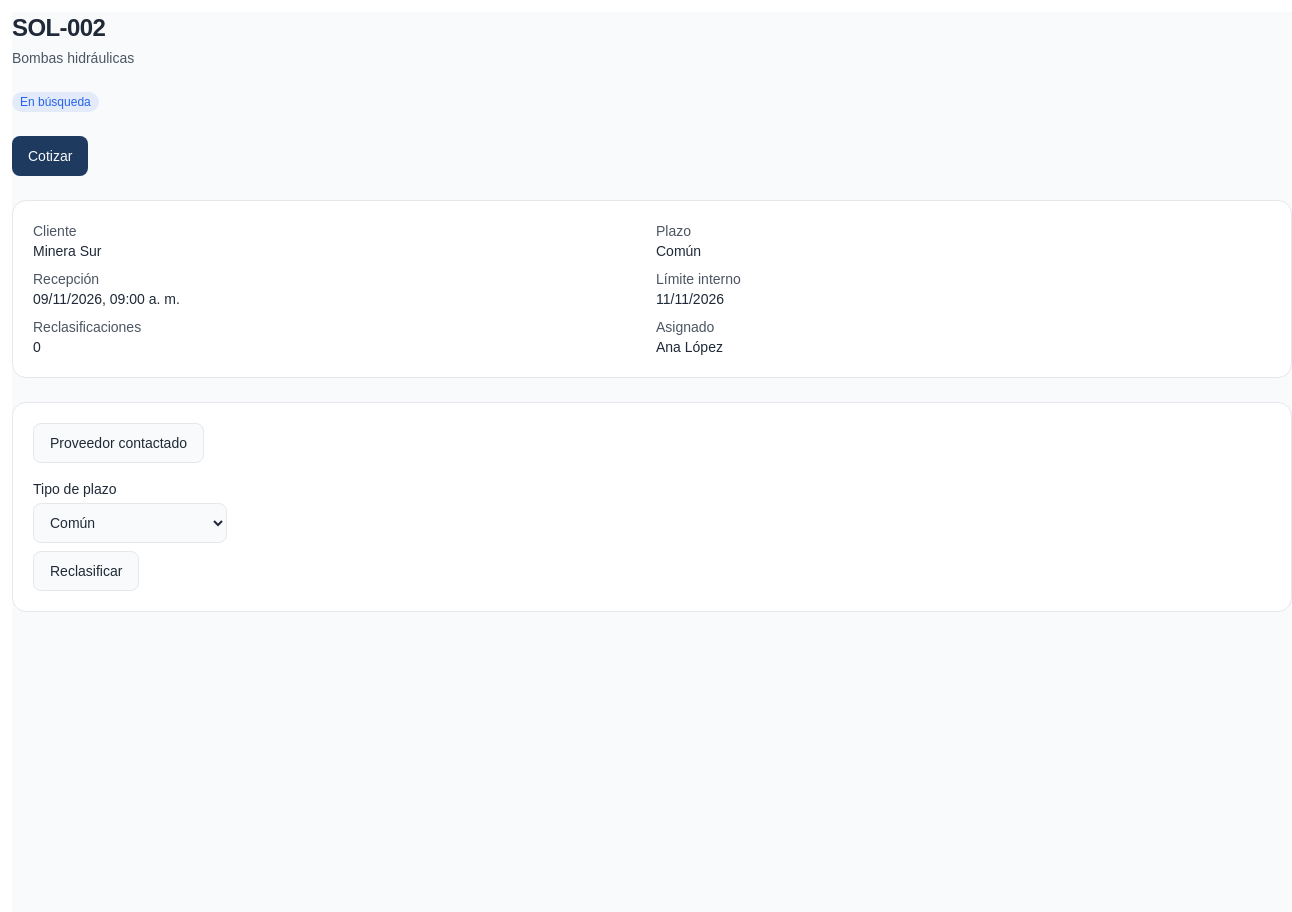
Test case: SolicitudInternaPage › la fecha estimada pasada no se envía
Click the button "Proveedor contactado".
click(118, 443)  # box x1=33 y1=423 x2=204 y2=463
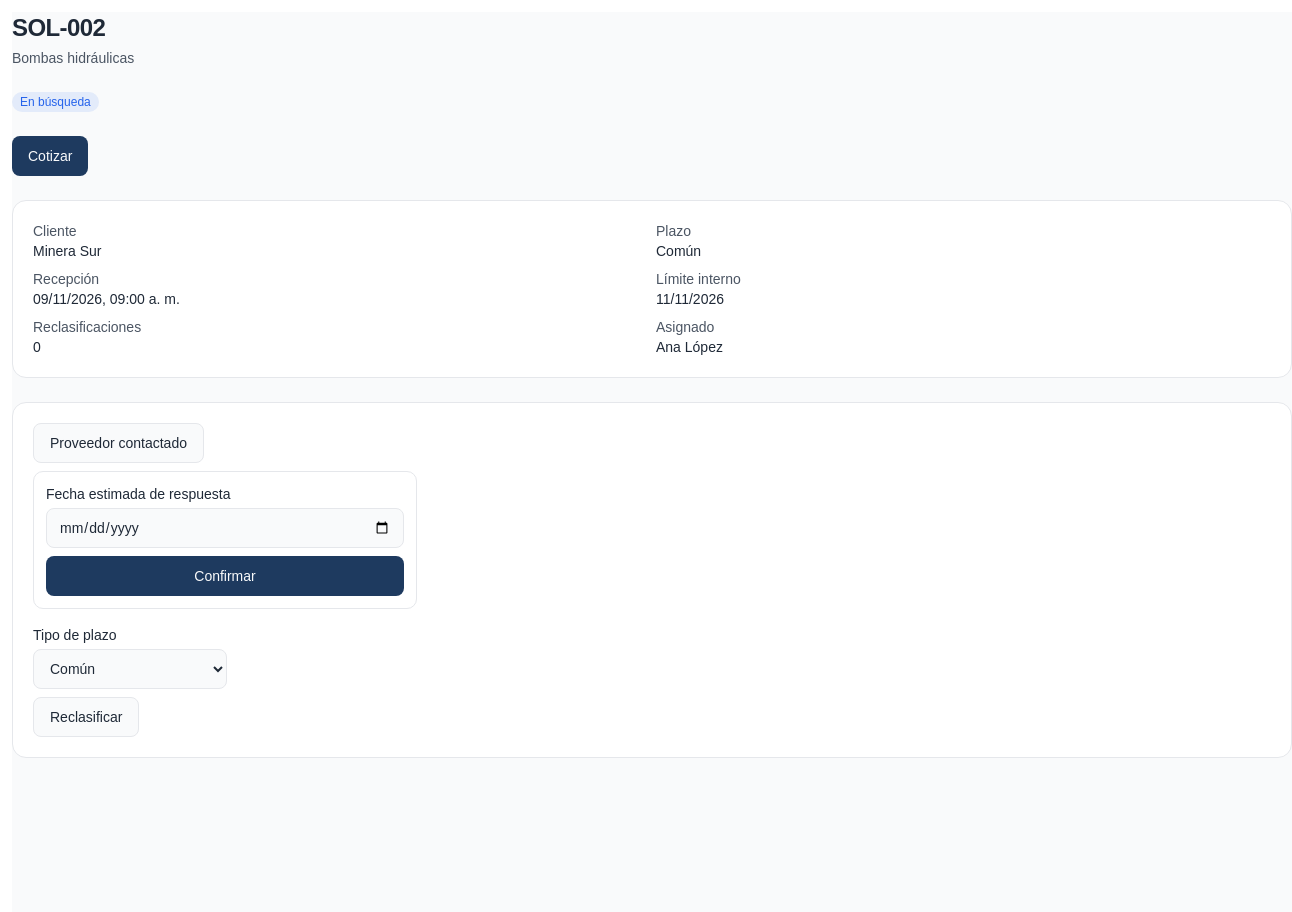
Type "2000-01-01" into the date field labelled "Fecha estimada de respuesta".
click(225, 528); type("2000-01-01")  # box x1=46 y1=508 x2=404 y2=548
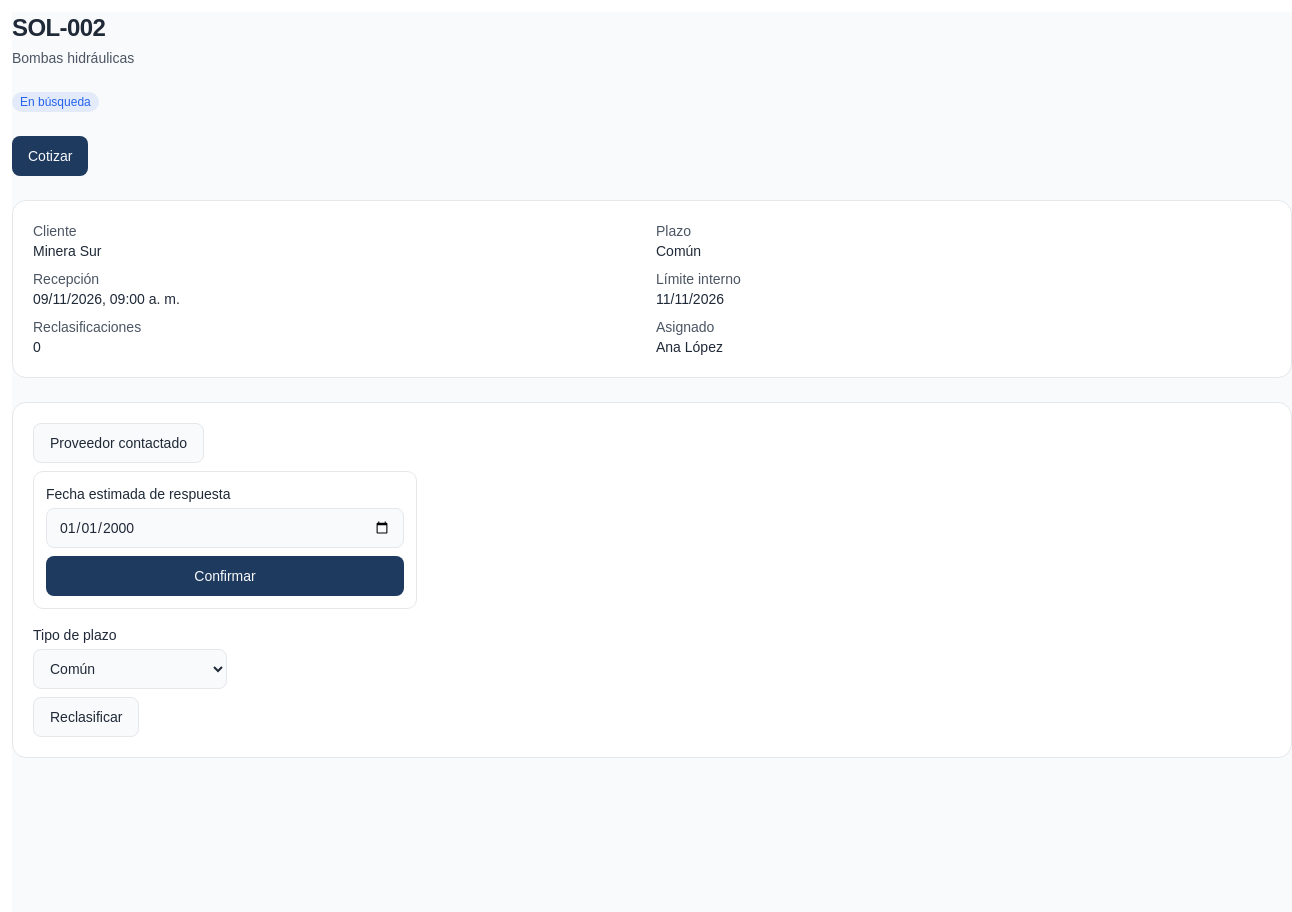
Click the button "Confirmar".
click(225, 576)  # box x1=46 y1=556 x2=404 y2=596
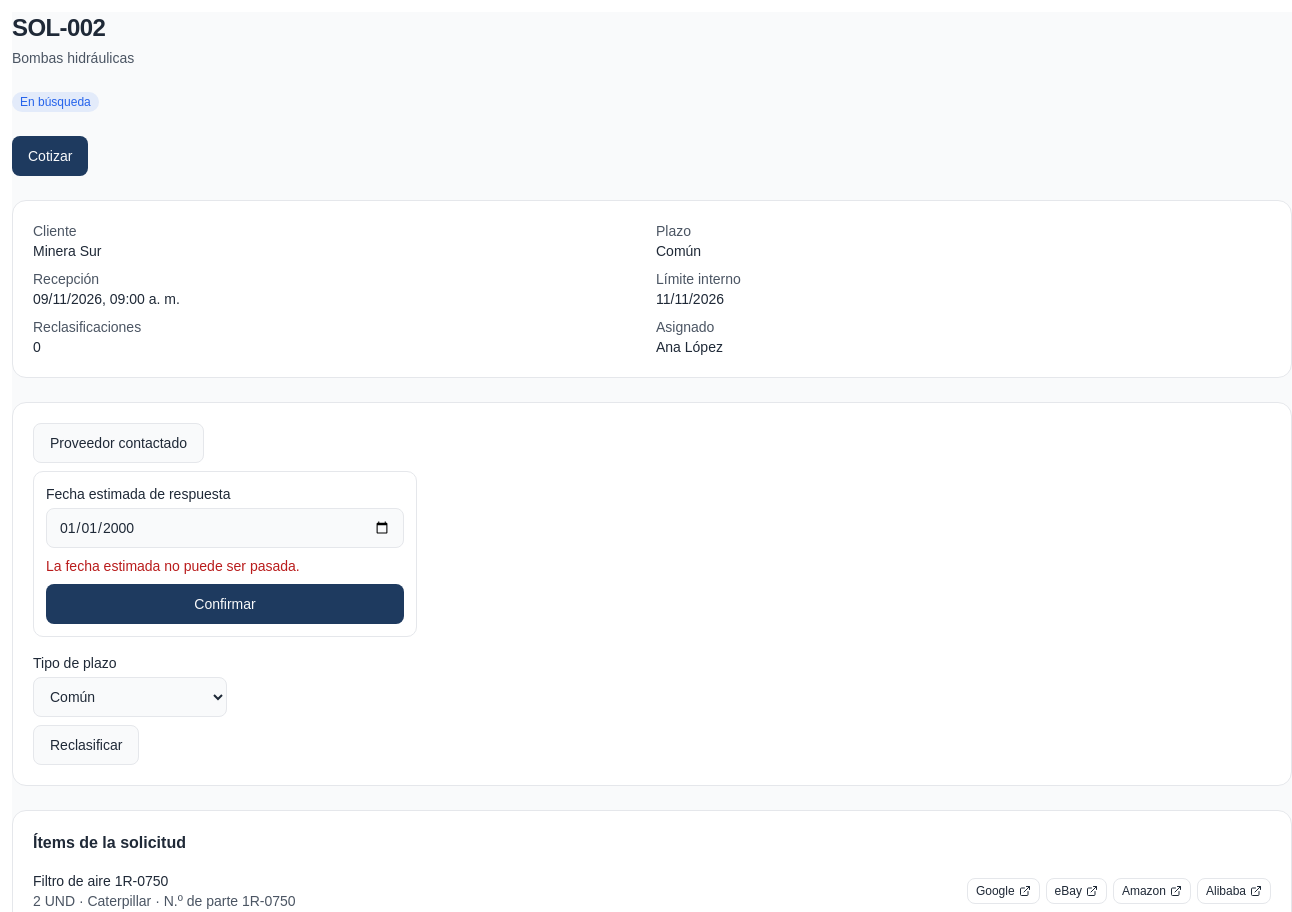
Result: the message shows "no puede ser pasada" at x1=46 y1=558 x2=300 y2=574
